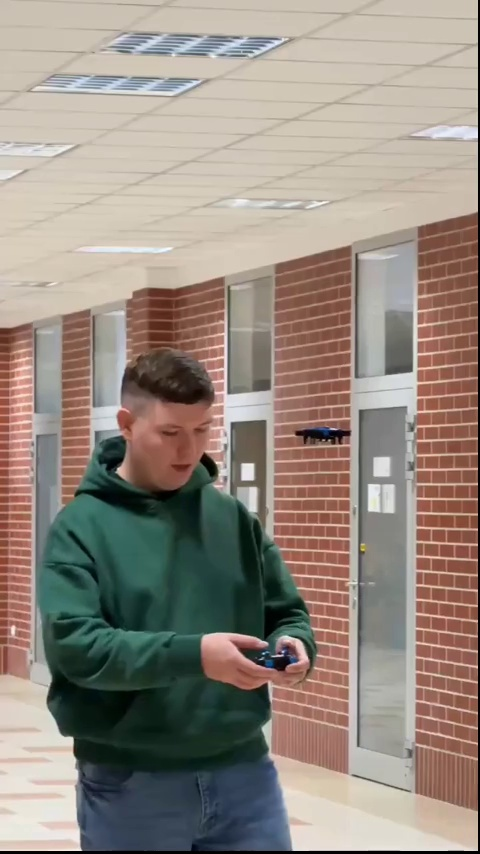drone: (294, 418, 353, 445)
no vest: (44, 350, 312, 853)
